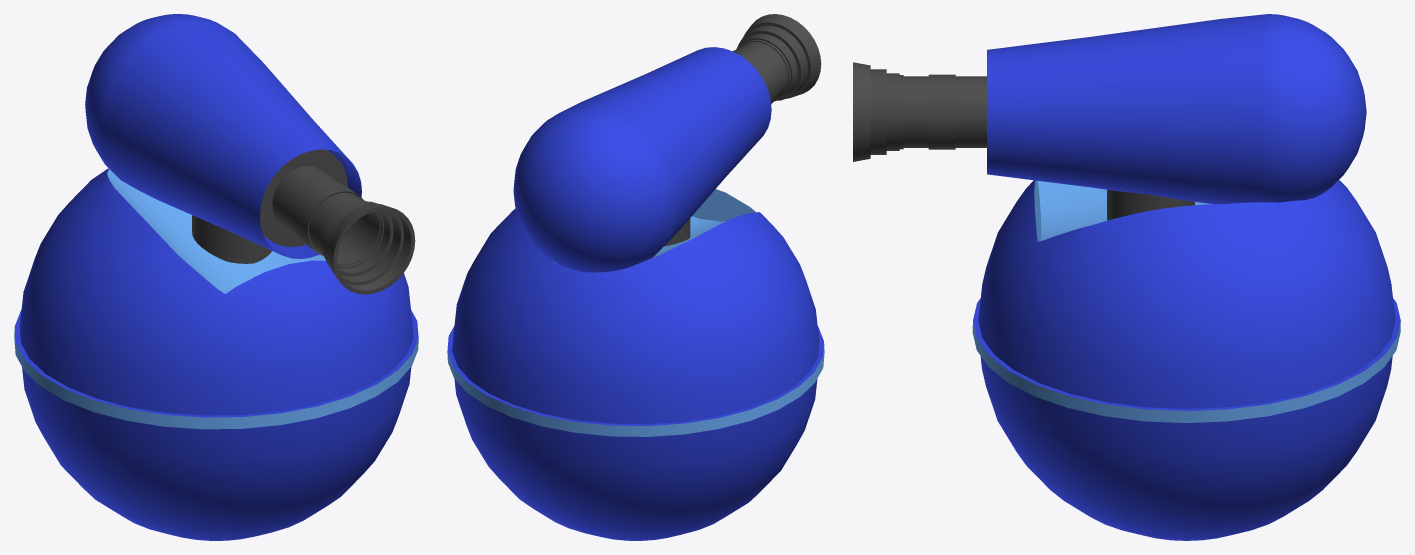
Rendered from 2gun.fbx.
3 renders of one model, left to right at view 1: azimuth 30°, elevation 25°; view 2: azimuth 150°, elevation 25°; view 3: azimuth 270°, elevation 25°, orthographic. The views are drawn at different scales.
Visible parts, largest first — view 1: blue, gun 2; view 2: blue, gun 2; view 3: blue, gun 2.
Part boxes in pixels (x1,y1,x2,y2): blue: (14, 168, 418, 540); gun 2: (85, 14, 415, 294); blue: (447, 189, 824, 540); gun 2: (513, 14, 821, 272); blue: (972, 180, 1400, 540); gun 2: (853, 14, 1366, 204).
Size of the model in its own units: 205 by 264 by 263.
